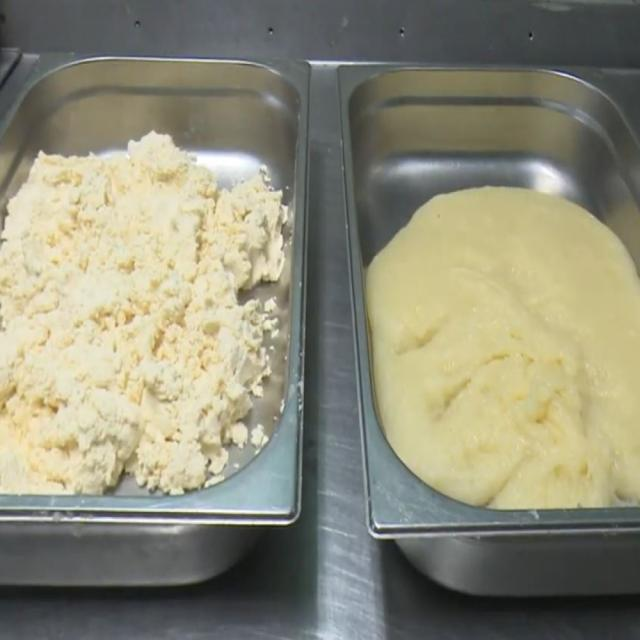papa: (375, 187, 637, 494), (27, 143, 225, 486)
